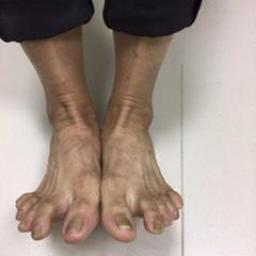Front View -Both Feet-: (8, 72, 189, 250)
